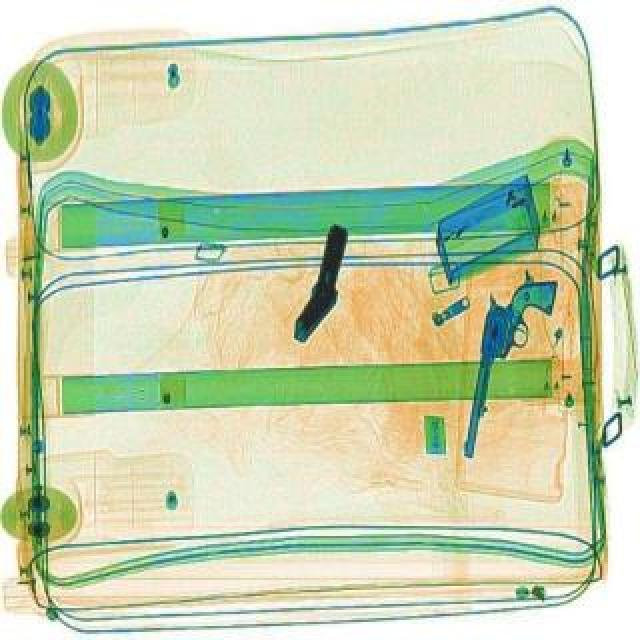gun: (458, 268, 558, 468), (288, 222, 360, 348)
